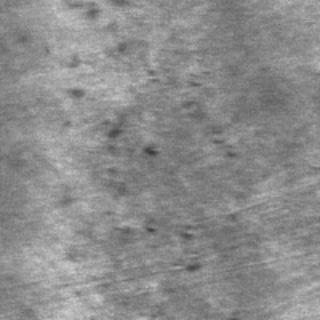rolled pit: (98, 90, 202, 270)
